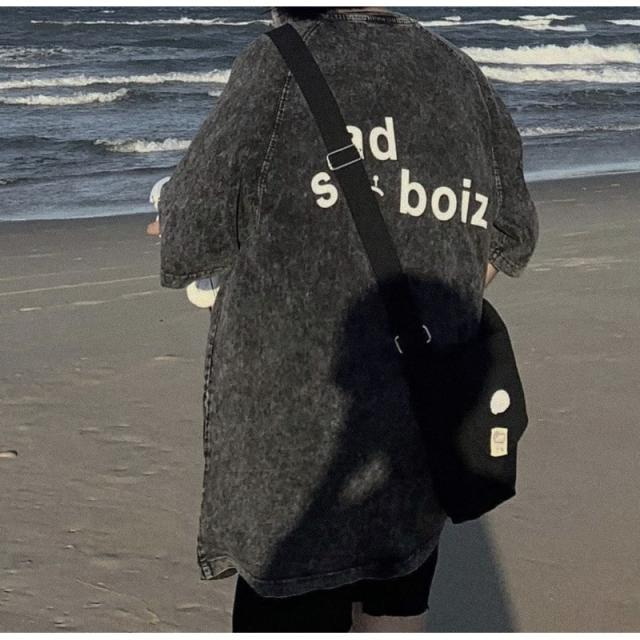Shirt: (148, 11, 546, 596)
